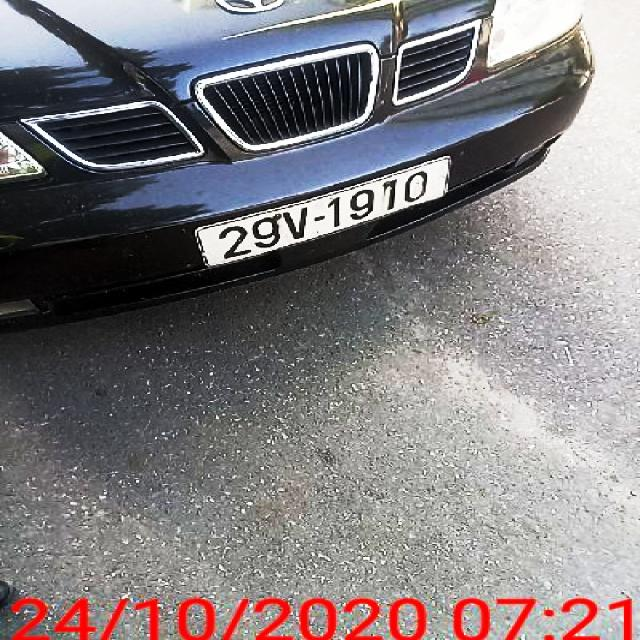license_plate: (195, 156, 455, 270)
